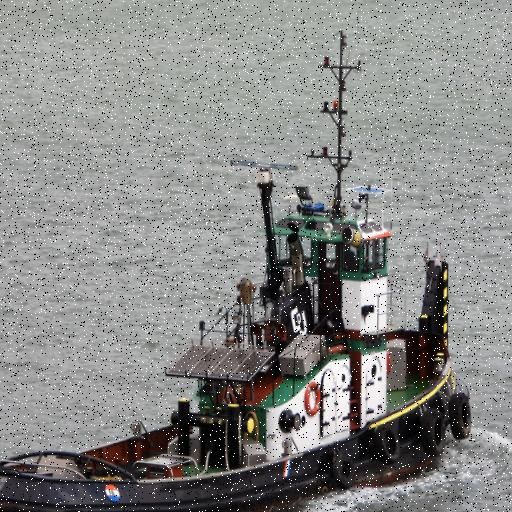tugboat: (1, 155, 476, 512)
